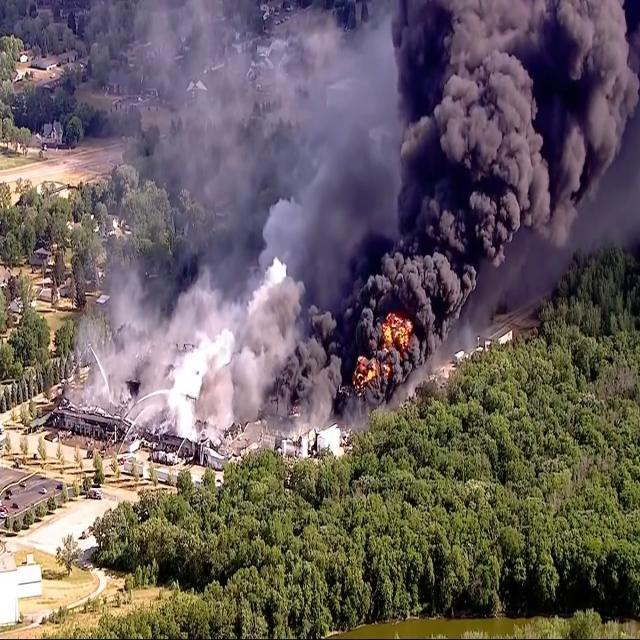Fire: (358, 314, 416, 390)
Smoke: (261, 0, 640, 423)
